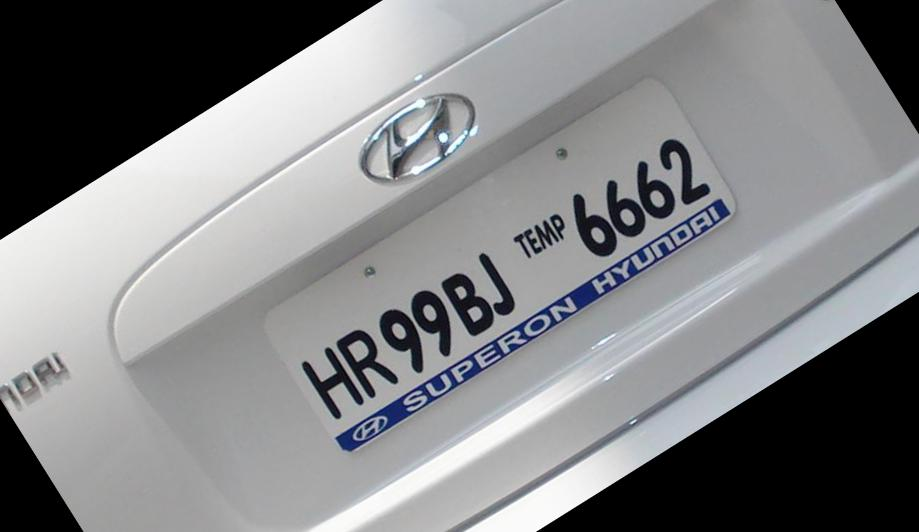plate: (251, 51, 766, 478)
